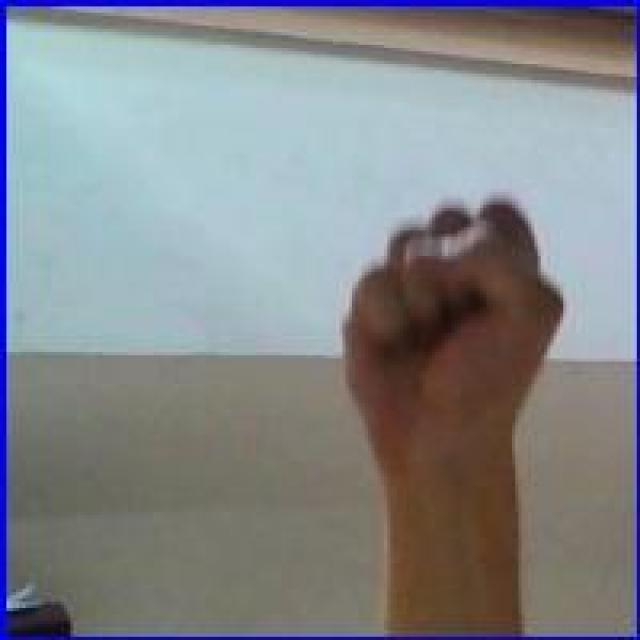S: (334, 188, 572, 458)
